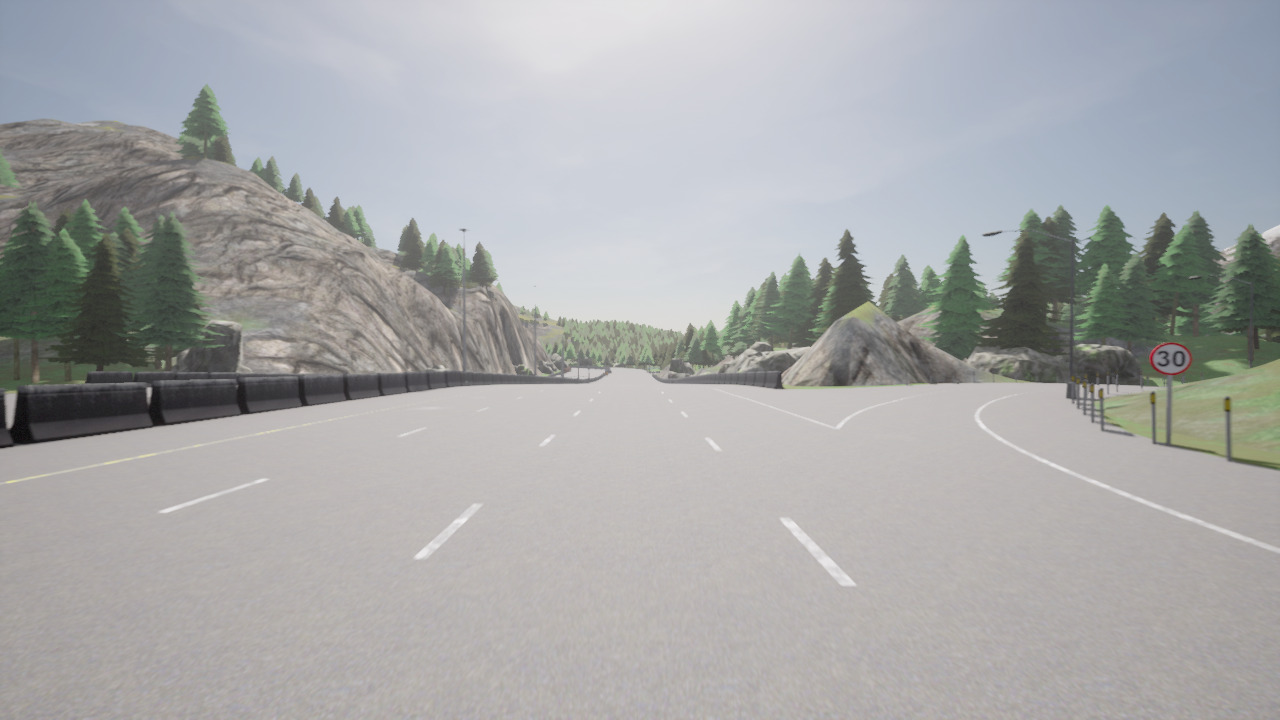sl30: (1148, 341, 1194, 377)
